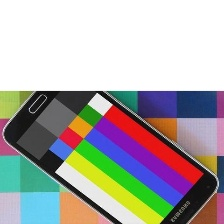phone: (1, 68, 221, 223)
